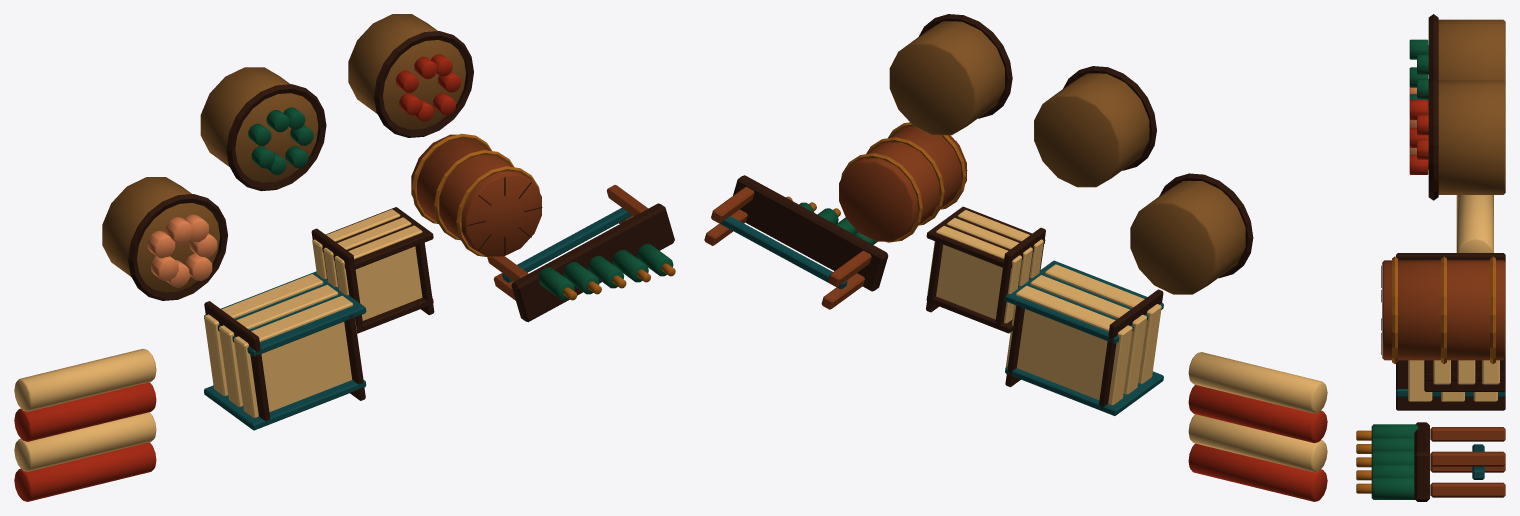
The model's file is SM_LT_HubSlice_GoodsCluster.obj.
3 views of the same model, side by side, from view 1: azimuth 30°, elevation 25°; view 2: azimuth 150°, elevation 25°; view 3: azimuth 270°, elevation 25° (orthographic). The views are drawn at different scales.
Visible parts, largest first — view 1: SM_LT_HubSlice_GoodsCluster.001; view 2: SM_LT_HubSlice_GoodsCluster.001; view 3: SM_LT_HubSlice_GoodsCluster.001.
Boxes of the visible parts, x1,y1,x2,y2 form: SM_LT_HubSlice_GoodsCluster.001: (14,14,675,501); SM_LT_HubSlice_GoodsCluster.001: (704,14,1327,501); SM_LT_HubSlice_GoodsCluster.001: (1356,14,1505,501).
Size of the model in its own units: 765 by 454 by 143.
